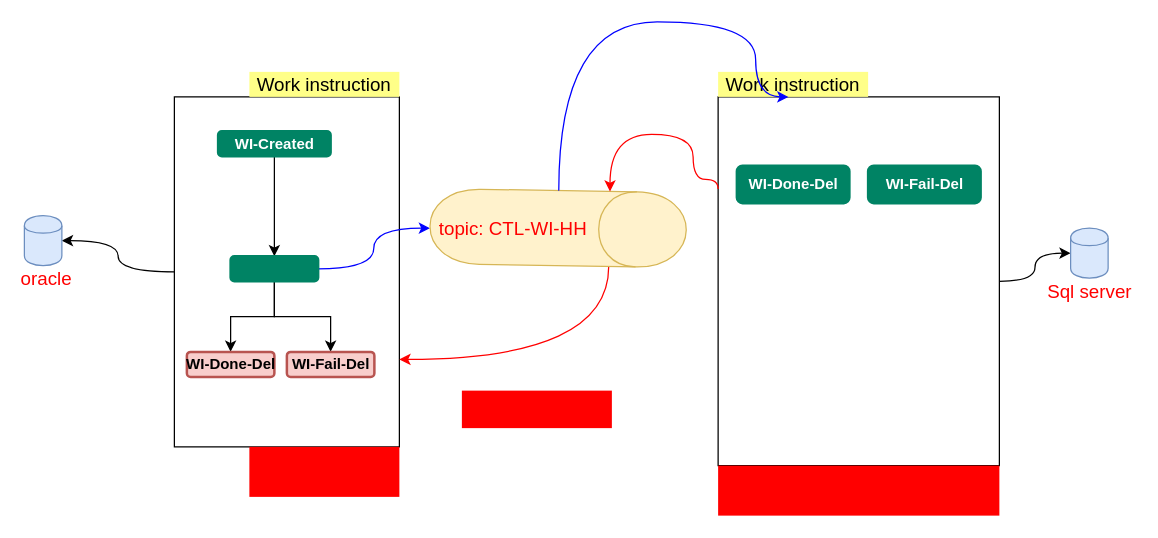
Image size: 1158x538. Some labels were removed from this diagram. Here are the shapes that lost their labels. From the top down, the box of each, then its label:
(229, 254, 319, 282): WI-REQ-Del
(461, 390, 611, 428): Kafka System
(249, 446, 399, 496): OPS Core System
(718, 465, 999, 515): OPS Web System
